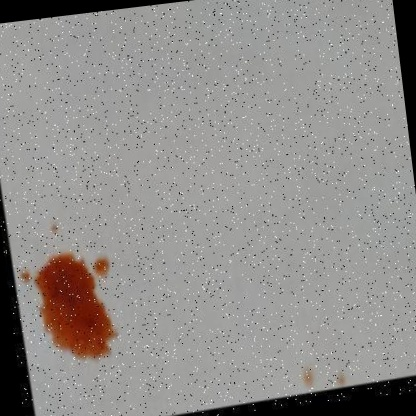kimchi: (15, 242, 130, 371), (299, 363, 320, 392), (49, 220, 74, 243), (338, 371, 355, 390)
